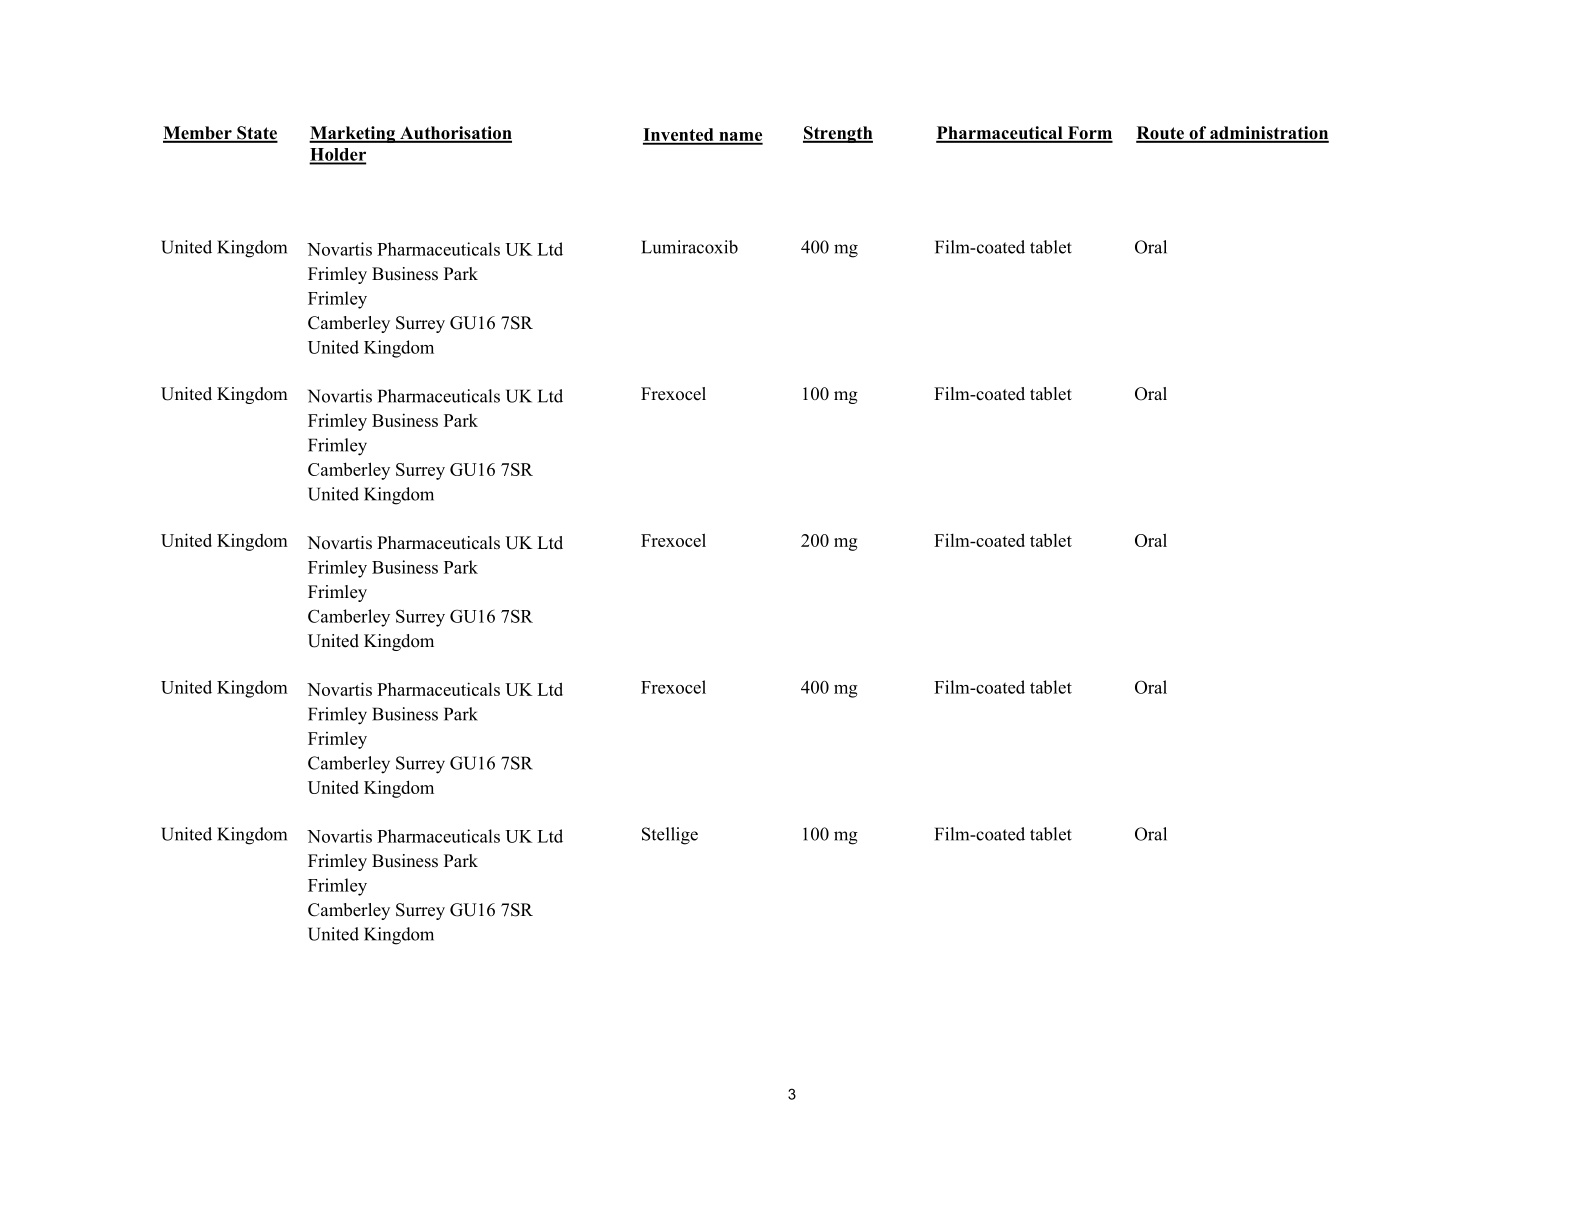nolines: (161, 123, 1332, 948)
